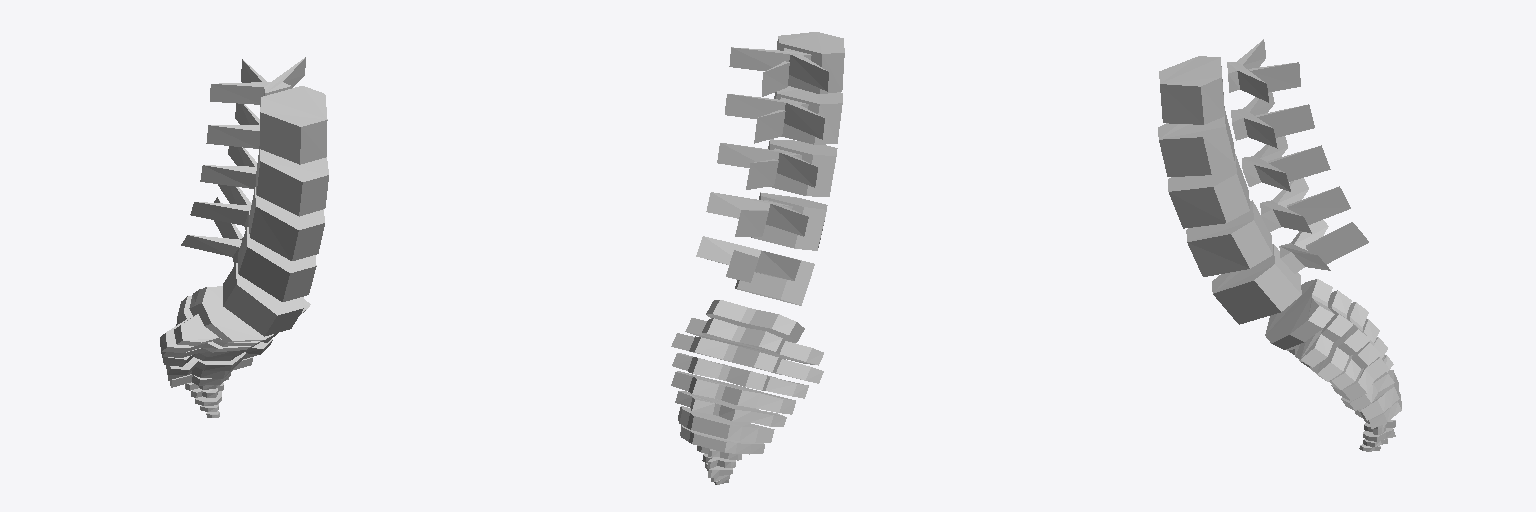
The model's file is sacrum.obj.
3 renders of one model, left to right at view 1: azimuth 30°, elevation 25°; view 2: azimuth 150°, elevation 25°; view 3: azimuth 270°, elevation 25°, orthographic.
Visible parts, largest first — view 1: SACLUMBR01_SACLUMBR01_WHITE_BONE; view 2: SACLUMBR01_SACLUMBR01_WHITE_BONE; view 3: SACLUMBR01_SACLUMBR01_WHITE_BONE.
Part boxes in pixels (x1,y1,x2,y2): SACLUMBR01_SACLUMBR01_WHITE_BONE: (160, 57, 328, 417); SACLUMBR01_SACLUMBR01_WHITE_BONE: (671, 32, 844, 484); SACLUMBR01_SACLUMBR01_WHITE_BONE: (1158, 39, 1401, 451).
Size of the model in its own units: 3.68 by 9.34 by 5.35.